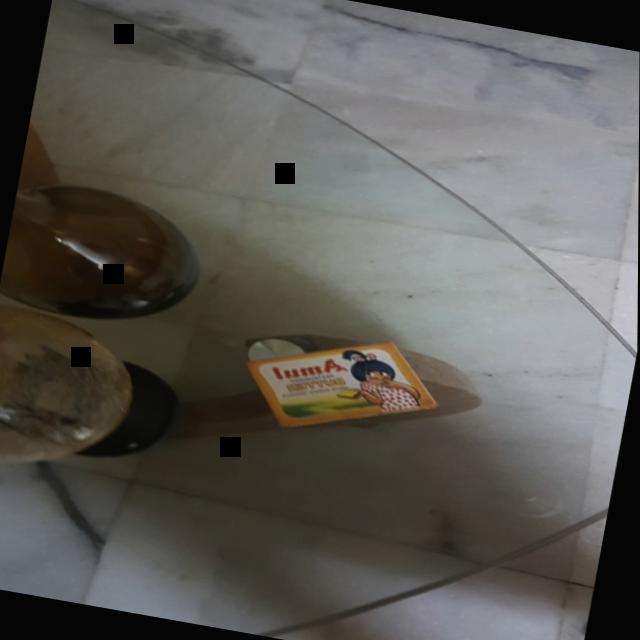butter: (237, 318, 448, 455)
